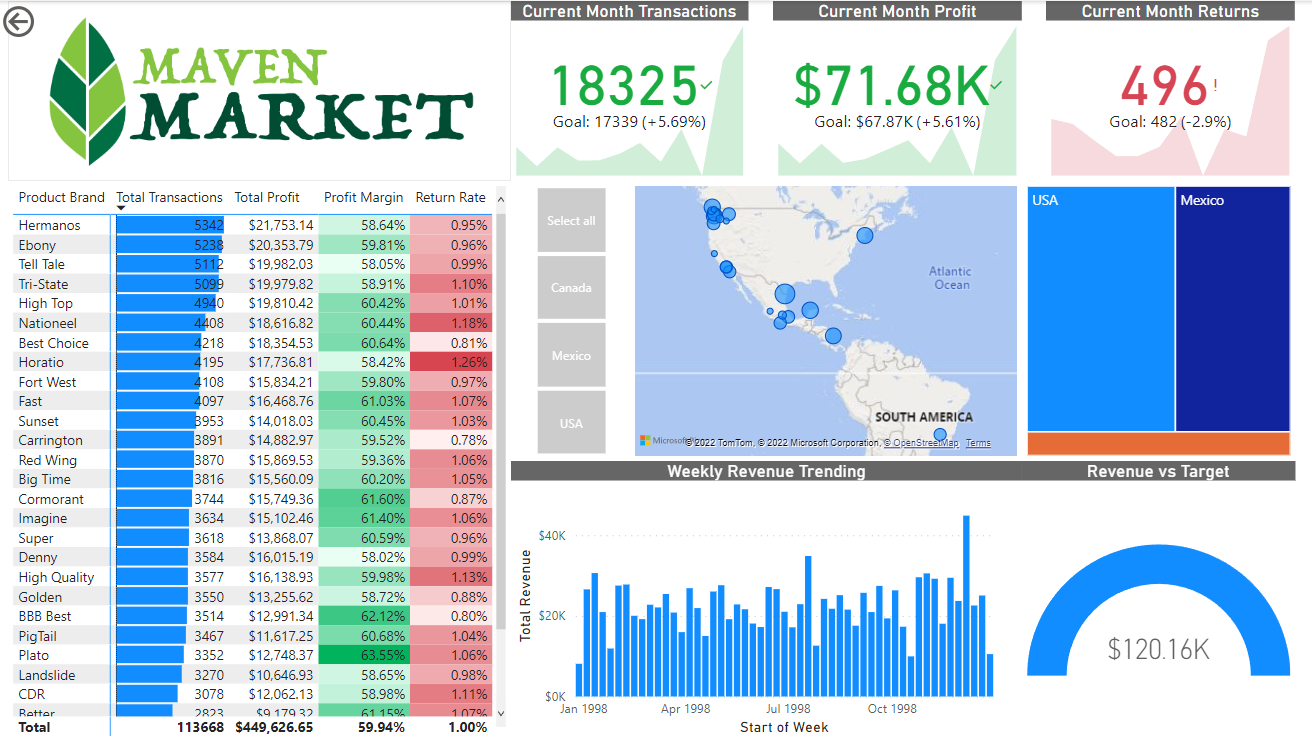

Layout of this report page (visuals, bound fields, positions):
{"tool":"powerbi","page":{"name":"Topline Performance","canvas":[1280,720],"ordinal":0},"visuals":[{"type":"image","box":[9.7,0,489.2,175.1],"z":0},{"type":"pivotTable","fields":{"Rows":["DimProduct.product_brand"],"Values":["FactTransaction.Total Transactions","FactTransaction.Total Profit","FactTransaction.Profit Margin","FactReturn.Return Rate"]},"box":[9.7,175.1,489.2,544.7],"z":1000},{"type":"kpi","title":"Current Month Transactions","fields":{"Indicator":["FactTransaction.Total Transactions"],"TrendLine":["DimCalendar.Start of Month"],"Goal":["FactTransaction.Last Month Transactions"]},"box":[499,0,230.5,175.1],"z":2000},{"type":"kpi","title":"Current Month Profit","fields":{"TrendLine":["DimCalendar.Start of Month"],"Indicator":["FactTransaction.Total Profit"],"Goal":["FactTransaction.Last Month Profit"]},"box":[753.3,0,242.2,175.1],"z":3000},{"type":"kpi","title":"Current Month Returns","fields":{"TrendLine":["DimCalendar.Start of Month"],"Indicator":["FactReturn.Total Returns"],"Goal":["FactReturn.Last Month Returns"]},"box":[1019.3,0,242.2,175.1],"z":4000},{"type":"map","fields":{"Category":["DimStore.store_city"],"Size":["FactTransaction.Total Transactions"]},"box":[614.7,175.1,381.3,272.3],"z":5000},{"type":"slicer","fields":{"Values":["DimStore.store_country"]},"box":[499,175.1,115.7,272.3],"z":6000},{"type":"treemap","fields":{"Group":["DimStore.store_country","DimStore.store_state","DimStore.store_city"],"Values":["FactTransaction.Total Transactions"]},"box":[996,175.1,265.5,272.3],"z":7000},{"type":"actionButton","box":[0,0,100,40],"z":8000},{"type":"columnChart","title":"Weekly Revenue Trending","fields":{"Y":["FactTransaction.Total Revenue"],"Category":["DimCalendar.Start of Week"]},"box":[499,447.4,497,272.3],"z":9000},{"type":"gauge","title":"Revenue vs Target","fields":{"Y":["FactTransaction.Total Revenue"],"MaxValue":["FactTransaction.Revenue Target"]},"box":[996,447.4,265.5,271.4],"z":10000}]}

Visuals, with their boxes in screenshot pixels (x1, y1, x2, y2), scaled from the page's 1280x720 canvas onto the 1312x739 screenshot:
image: [left=10, top=0, right=511, bottom=180]
pivotTable - DimProduct.product_brand x FactTransaction.Total Transactions: [left=10, top=180, right=511, bottom=738]
"Current Month Transactions" kpi: [left=511, top=0, right=748, bottom=180]
"Current Month Profit" kpi: [left=772, top=0, right=1020, bottom=180]
"Current Month Returns" kpi: [left=1045, top=0, right=1293, bottom=180]
map - DimStore.store_city x FactTransaction.Total Transactions: [left=630, top=180, right=1021, bottom=459]
slicer - DimStore.store_country: [left=511, top=180, right=630, bottom=459]
treemap - DimStore.store_country x DimStore.store_state: [left=1021, top=180, right=1293, bottom=459]
actionButton: [left=0, top=0, right=102, bottom=41]
"Weekly Revenue Trending" columnChart: [left=511, top=459, right=1021, bottom=738]
"Revenue vs Target" gauge: [left=1021, top=459, right=1293, bottom=738]
